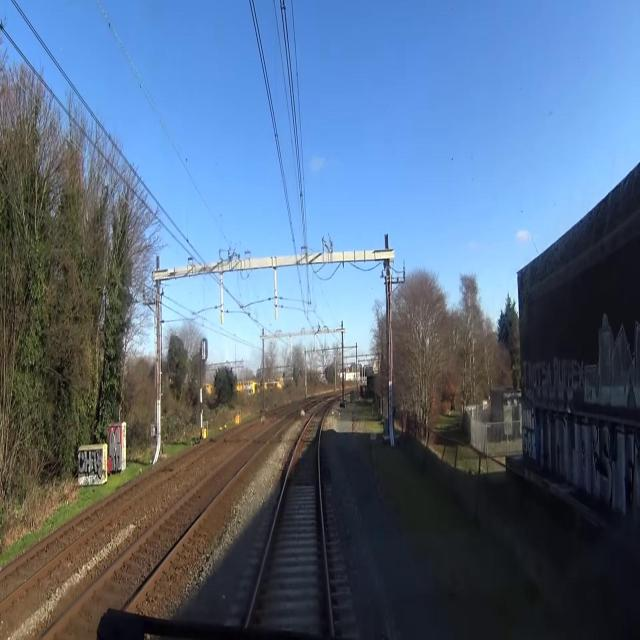rail-track: (45, 425, 277, 639), (0, 447, 202, 598), (252, 408, 329, 631)
